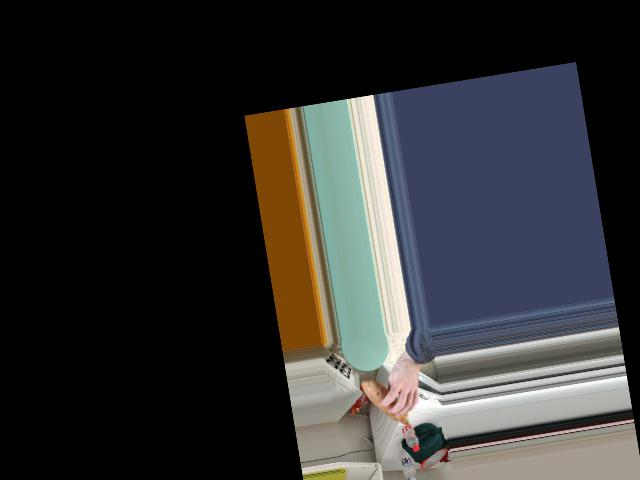sweet_potato: (363, 379, 420, 428)
